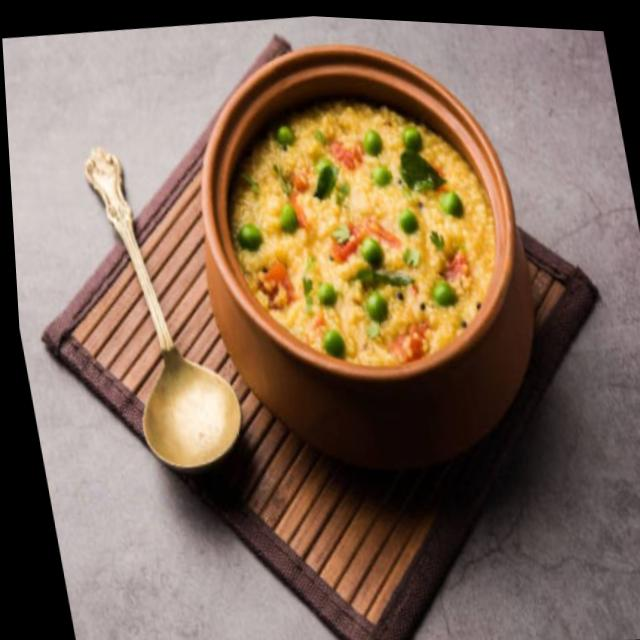SAMBAR RICE: (225, 90, 513, 370)
